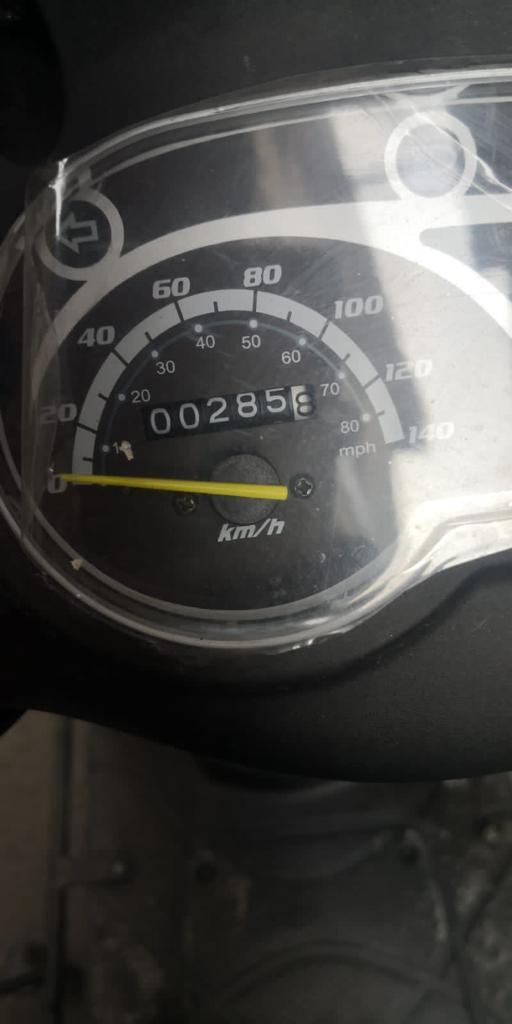0: (176, 401, 200, 430), (148, 405, 171, 435), (139, 387, 150, 401)
2: (205, 395, 230, 424), (129, 388, 140, 403)
5: (263, 385, 287, 413)
8: (234, 390, 257, 417), (293, 390, 316, 417)
odometer: (126, 380, 322, 443)
